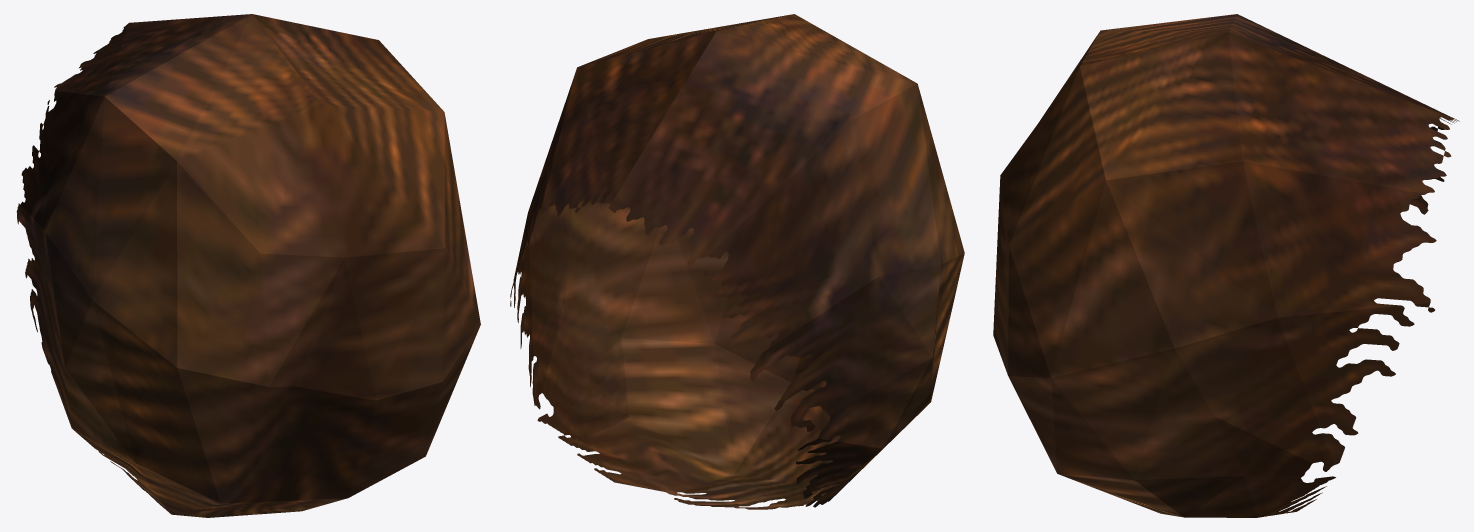
File: common_hair_female_2006.obj
3 views of the same model, side by side, from view 1: azimuth 30°, elevation 25°; view 2: azimuth 150°, elevation 25°; view 3: azimuth 270°, elevation 25° (orthographic).
Visible parts, largest first — view 1: common_hair_female_2006; view 2: common_hair_female_2006; view 3: common_hair_female_2006.
Part boxes in pixels (x1=…): common_hair_female_2006: x1=16, y1=14, x2=480, y2=517; common_hair_female_2006: x1=510, y1=14, x2=964, y2=509; common_hair_female_2006: x1=993, y1=14, x2=1459, y2=517.
Size of the model in its own units: 7.23 by 8.75 by 7.81.
1 material, 1 textured.
